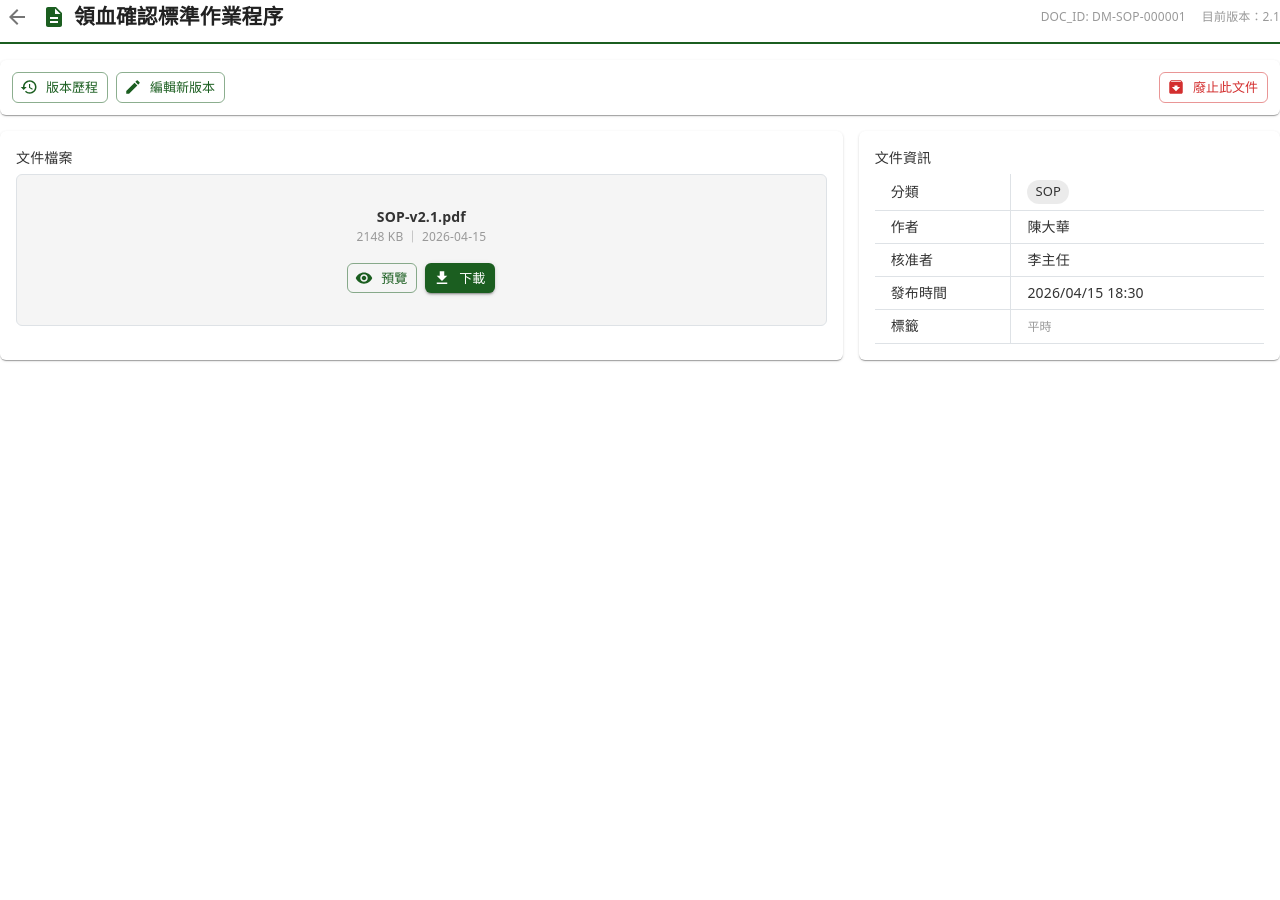
DmDetailPage 文件詳細頁 › 編輯者發起廢止：填原因 + 選審核者 → 送出成功提示（US8）
The width and height of the screenshot is (1280, 900).
Click the button "廢止此文件": (1214, 87) [1159,72,1268,103]
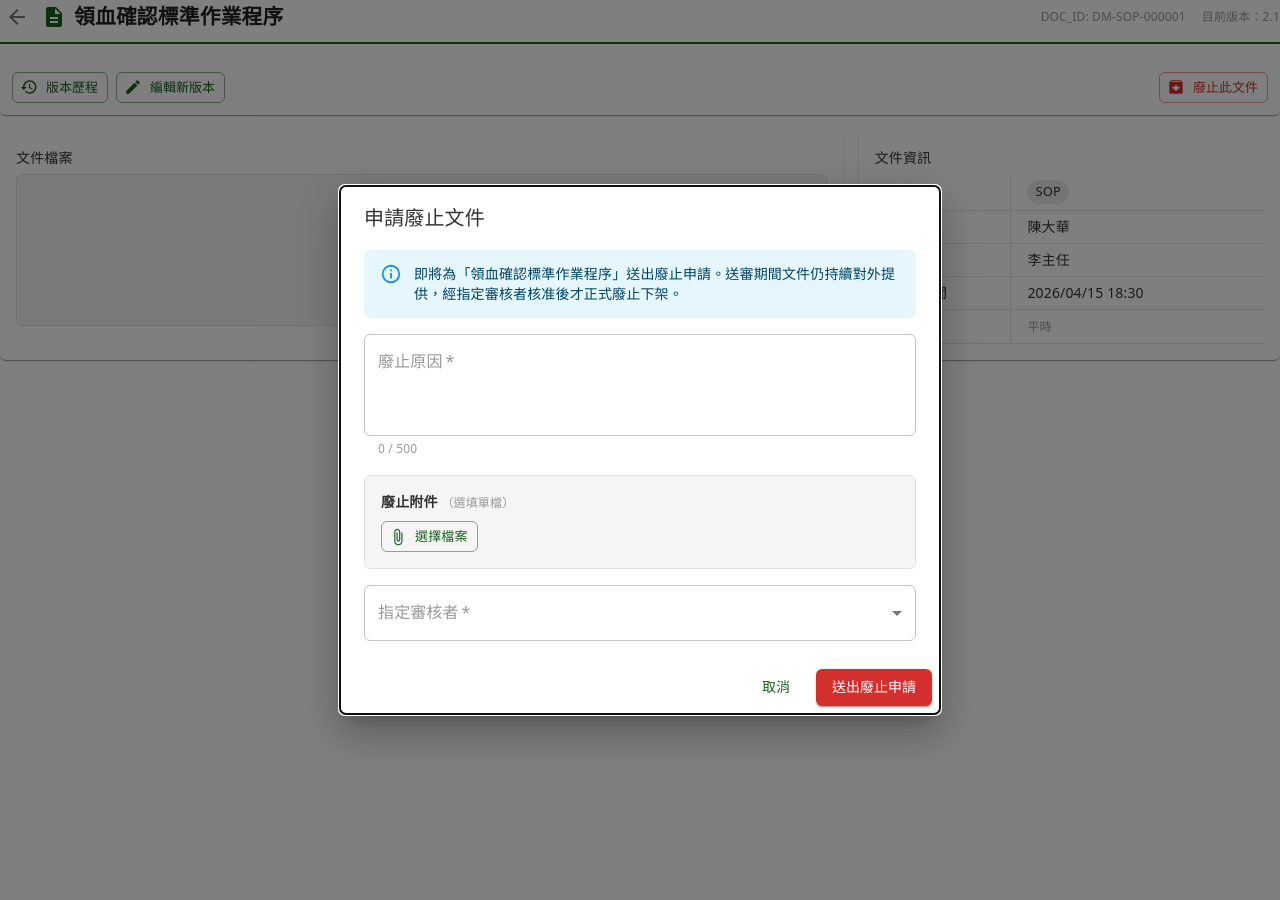
Check: the heading "申請廢止文件" is shown, box [364,204,485,232]
In the text box labelled "廢止原因 *": (640, 386) [378,351,902,420], type "流程已停辦"
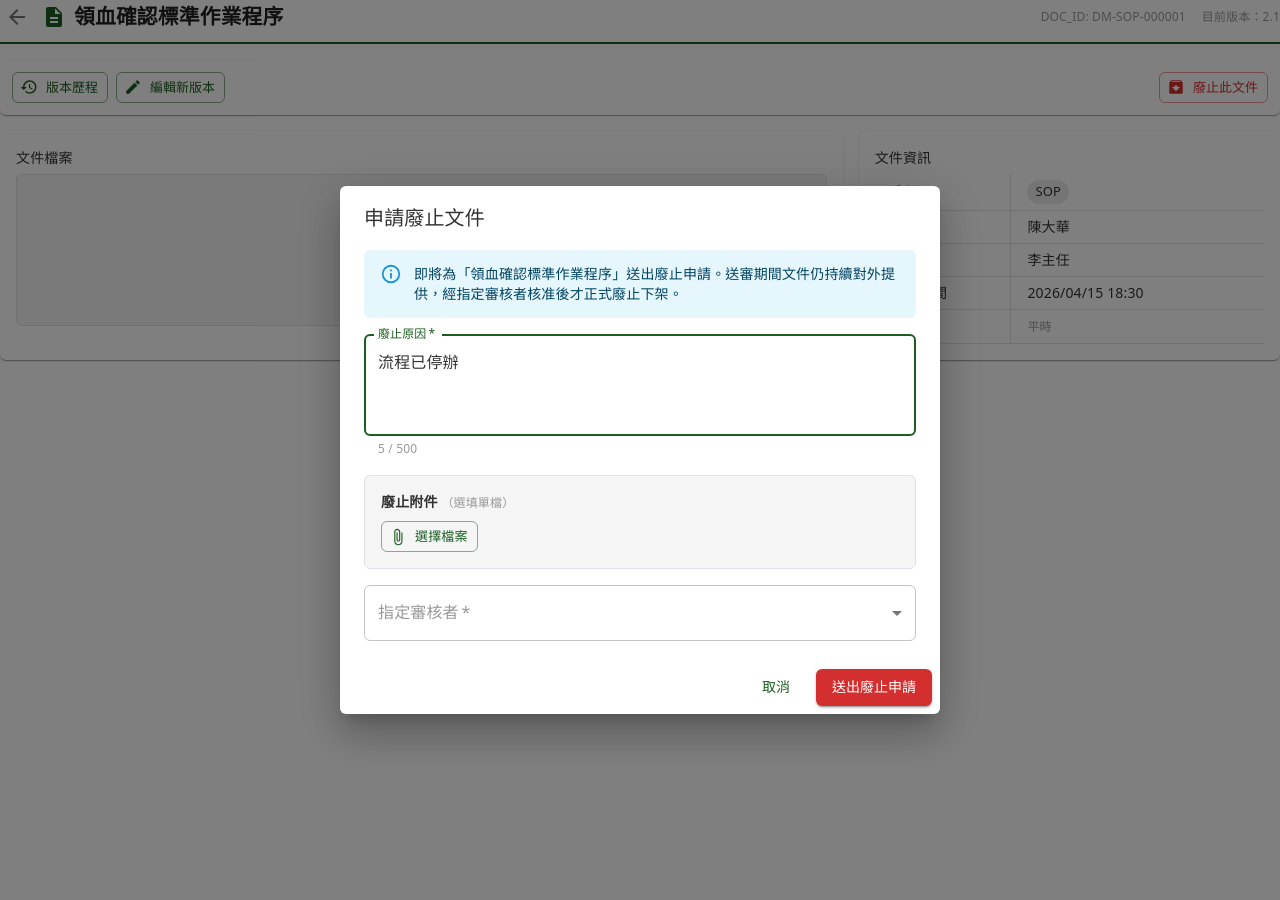
Click the dropdown named "指定審核者": (640, 613) [364,585,916,641]
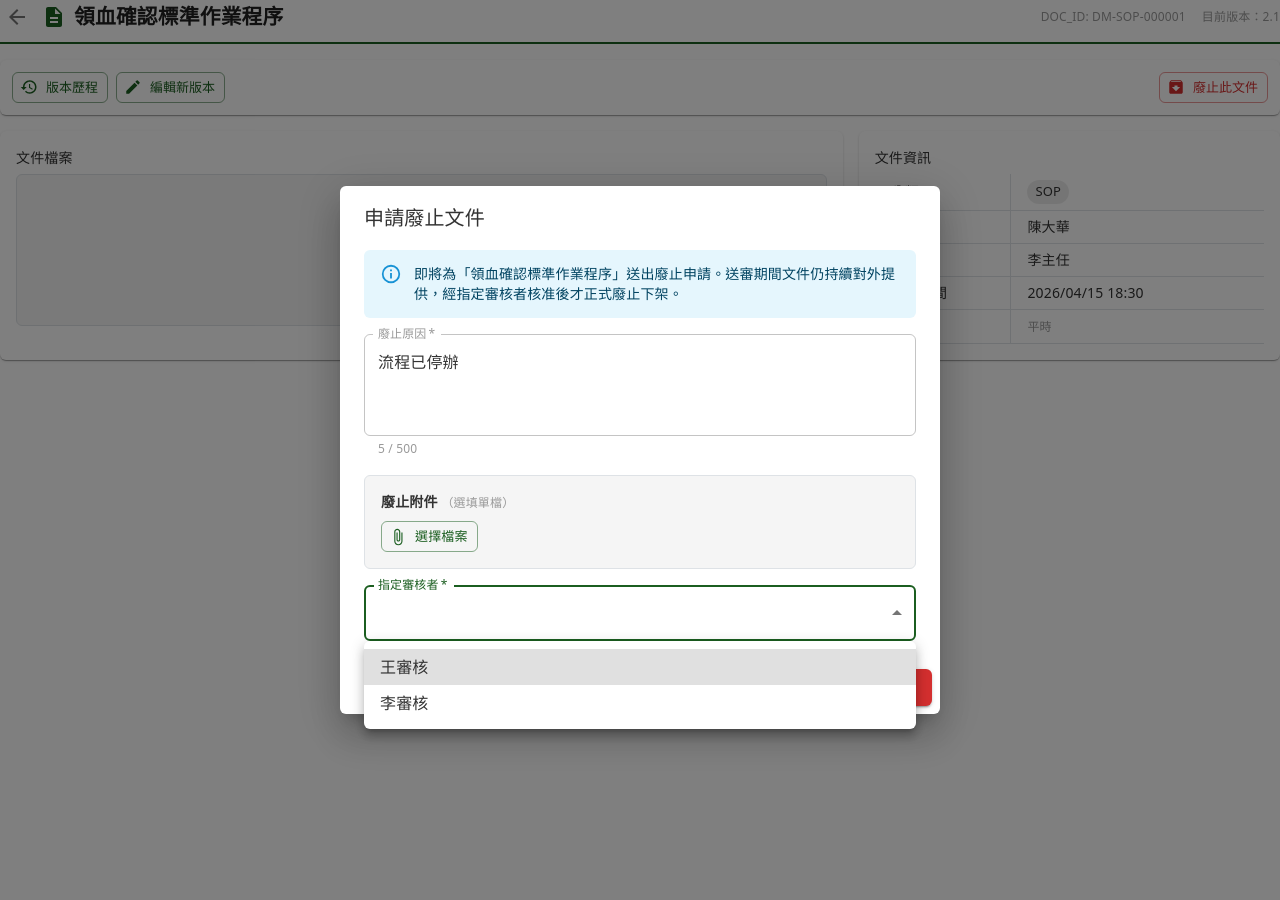
Click the option "王審核": (404, 667) [364,649,916,685]
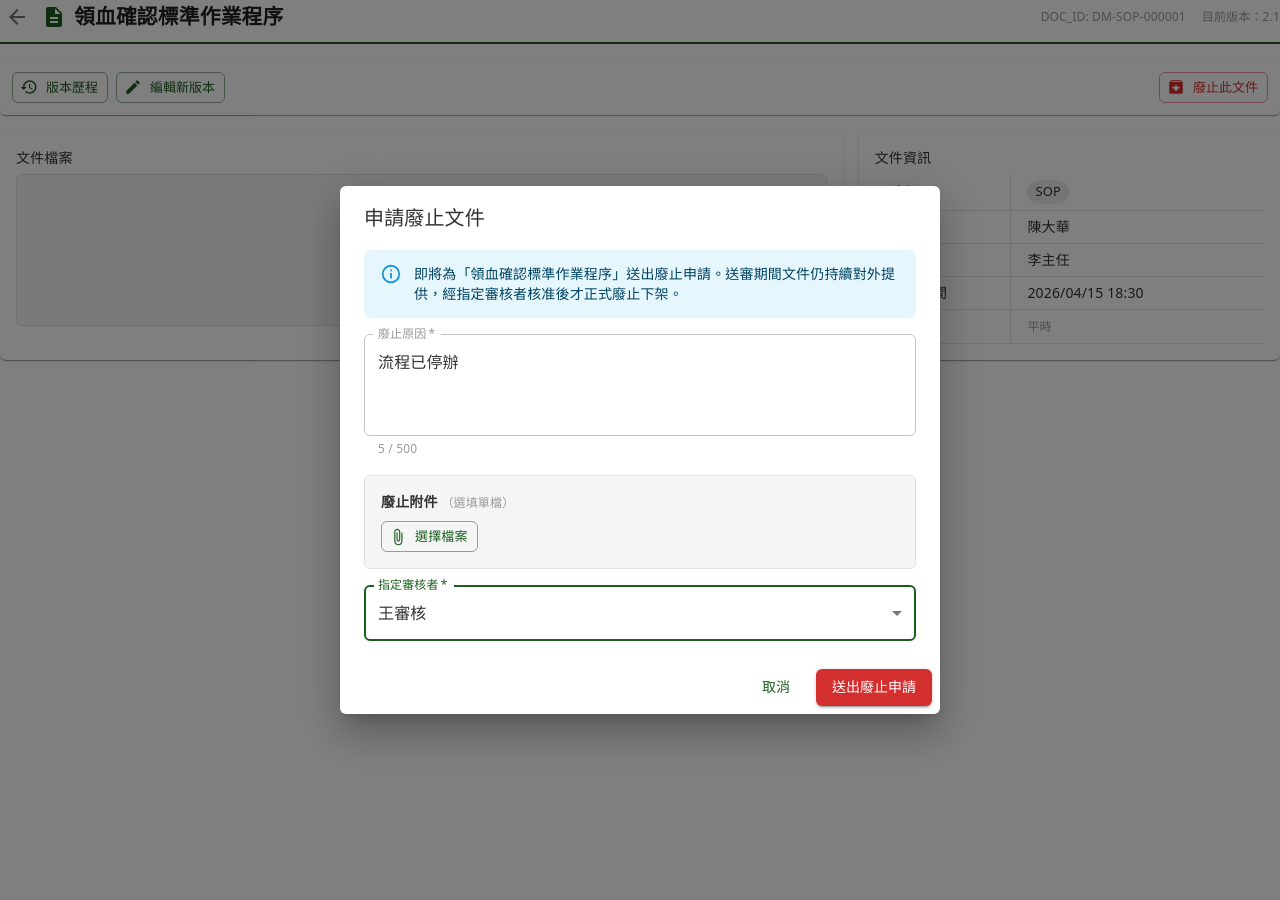
Click the button "送出廢止申請": (874, 687) [816,669,932,706]
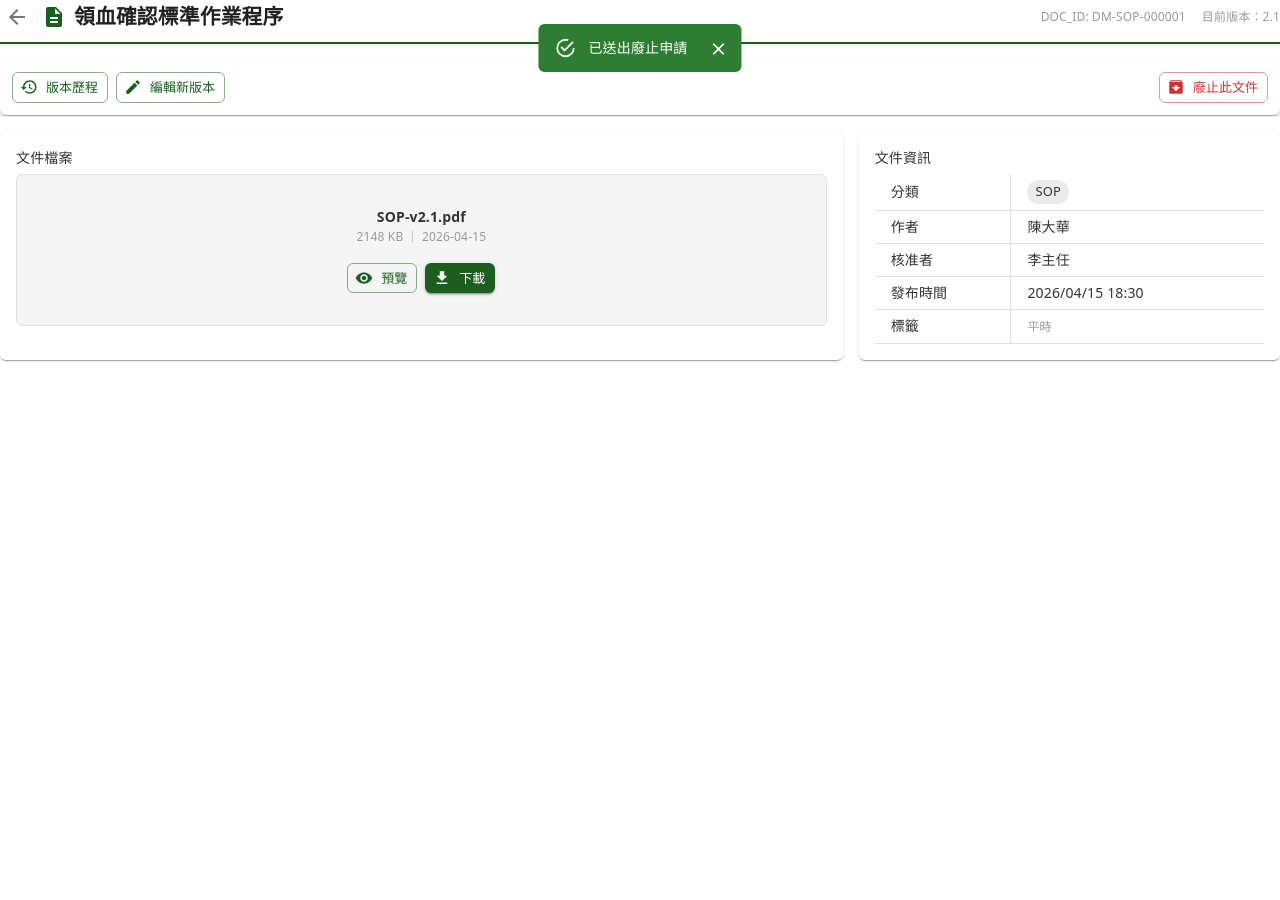
Check: the text "已送出廢止申請" is shown, box [588,38,688,57]
